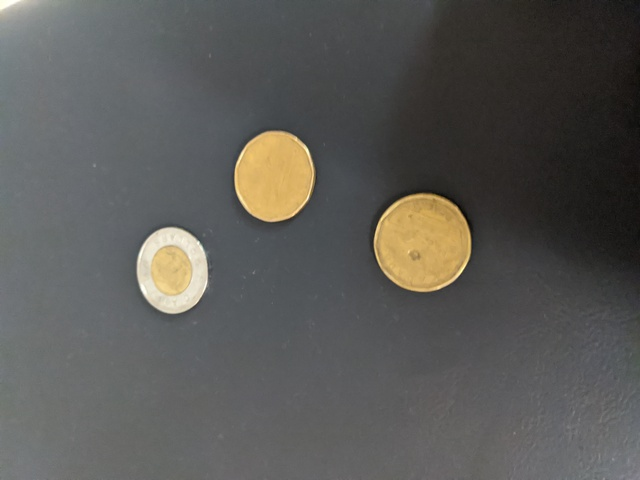loonie: (370, 183, 478, 295), (229, 125, 317, 220)
twonie: (129, 230, 213, 323)
